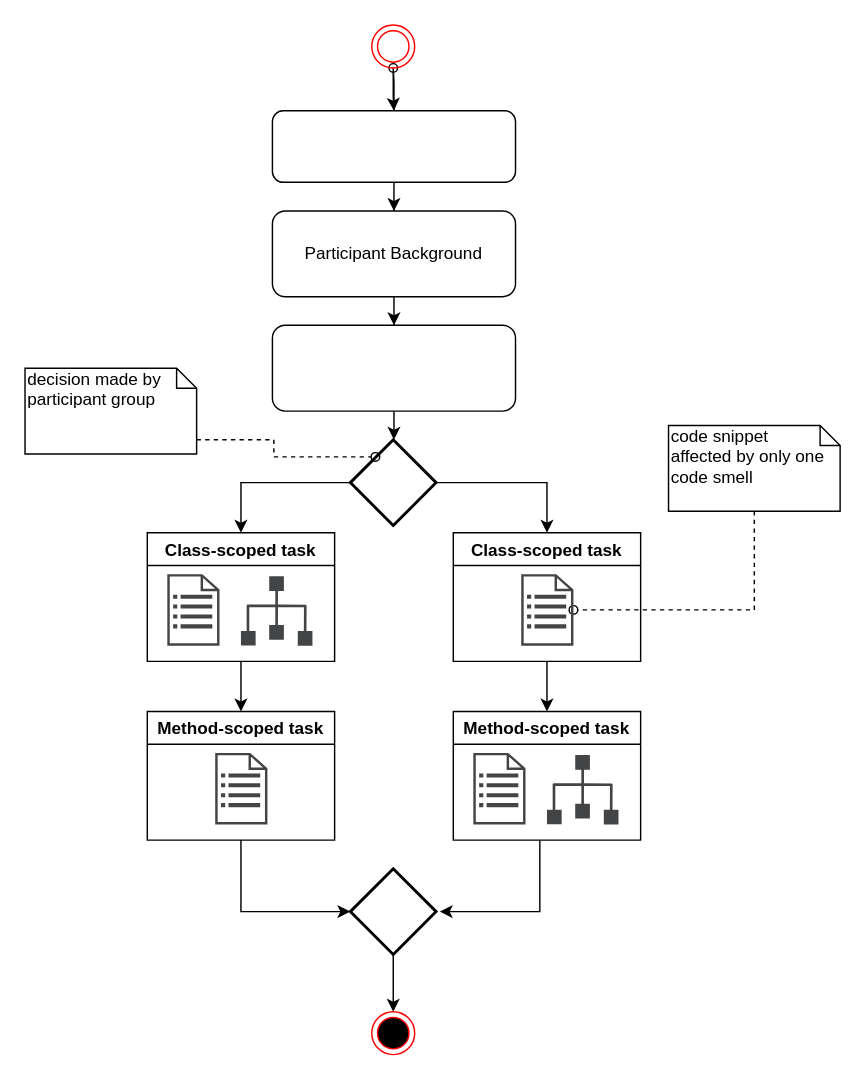
Image size: 865x1080. Some labels were removed from this diagram. Each missing label, with the centre of its shape:
"Preliminary instructions" goes at [393,367].
"Welcome page" goes at [393,145].
